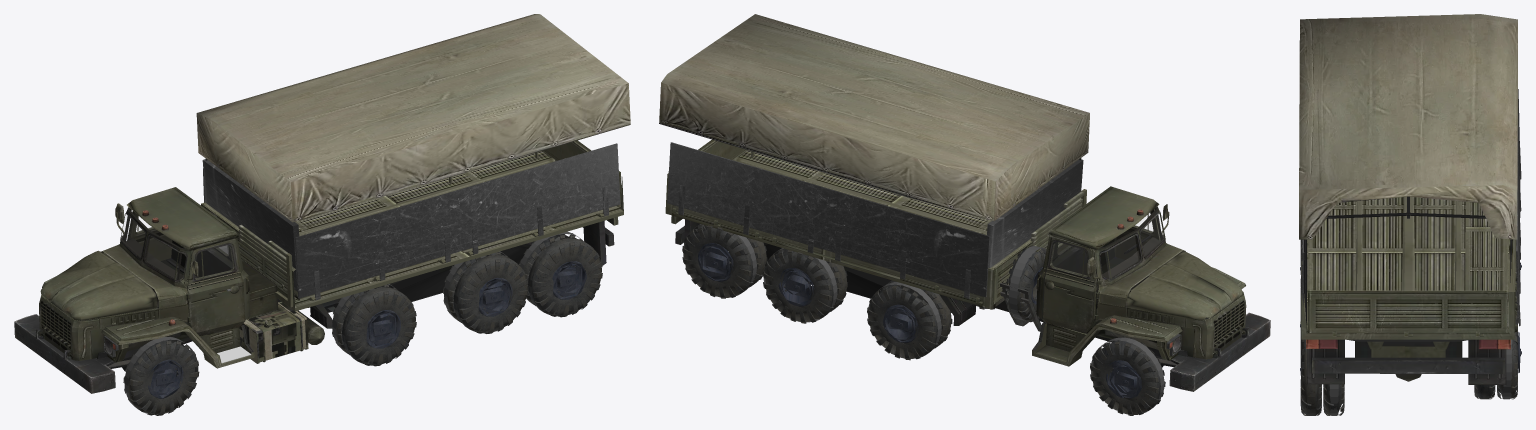
Rendered from ural.glb.
The picture shows the model from 3 angles, left to right: view 1: azimuth 30°, elevation 25°; view 2: azimuth 150°, elevation 25°; view 3: azimuth 270°, elevation 25°; orthographic projection. The views are drawn at different scales.
Parts seen in each view (by area): view 1: ural4320.001_Ural.001_0, ural4320_Material.008_0, ural4320.003_Material_0, Tire.004_Tire_0, Cube_Ural.002_0, Tire.008_phong1SG.001_0, Tire.004_Rim_0, Tire.004_phongE1SG_0, ural4320.004_Ural_0; view 2: ural4320.001_Ural.001_0, ural4320_Material.008_0, ural4320.003_Material_0, Tire.004_Tire_0, Cube_Ural.002_0, Tire.008_phong1SG.001_0, Tire.004_phongE1SG_0, Tire.004_Rim_0, ural4320.004_Ural_0; view 3: ural4320.001_Ural.001_0, ural4320_Material.008_0, Tire.004_Tire_0, ural4320.003_Material_0, Tire.004_phongE1SG_0, ural4320.004_Ural_0.
Part boxes in pixels (left/top/right/bottom): ural4320.001_Ural.001_0: left=196, top=14, right=630, bottom=222; ural4320_Material.008_0: left=14, top=140, right=623, bottom=393; ural4320.003_Material_0: left=202, top=143, right=620, bottom=298; Tire.004_Tire_0: left=123, top=212, right=602, bottom=415; Cube_Ural.002_0: left=127, top=187, right=604, bottom=307; Tire.008_phong1SG.001_0: left=152, top=264, right=582, bottom=394; Tire.004_Rim_0: left=148, top=261, right=586, bottom=398; Tire.004_phongE1SG_0: left=124, top=231, right=581, bottom=414; ural4320.004_Ural_0: left=226, top=186, right=608, bottom=300; ural4320.001_Ural.001_0: left=659, top=14, right=1089, bottom=221; ural4320_Material.008_0: left=665, top=139, right=1270, bottom=391; ural4320.003_Material_0: left=667, top=142, right=1083, bottom=297; Tire.004_Tire_0: left=682, top=224, right=1165, bottom=415; Cube_Ural.002_0: left=1030, top=186, right=1169, bottom=249; Tire.008_phong1SG.001_0: left=700, top=245, right=1141, bottom=398; Tire.004_phongE1SG_0: left=683, top=224, right=1164, bottom=413; Tire.004_Rim_0: left=698, top=243, right=1140, bottom=397; ural4320.004_Ural_0: left=678, top=185, right=970, bottom=298; ural4320.001_Ural.001_0: left=1299, top=14, right=1517, bottom=239; ural4320_Material.008_0: left=1301, top=196, right=1517, bottom=385; Tire.004_Tire_0: left=1300, top=239, right=1517, bottom=415; ural4320.003_Material_0: left=1302, top=89, right=1520, bottom=323; Tire.004_phongE1SG_0: left=1329, top=339, right=1512, bottom=415; ural4320.004_Ural_0: left=1301, top=143, right=1521, bottom=326.
Size of the model in its own units: 8063 by 3334 by 2529.
12 materials, 8 textured.
